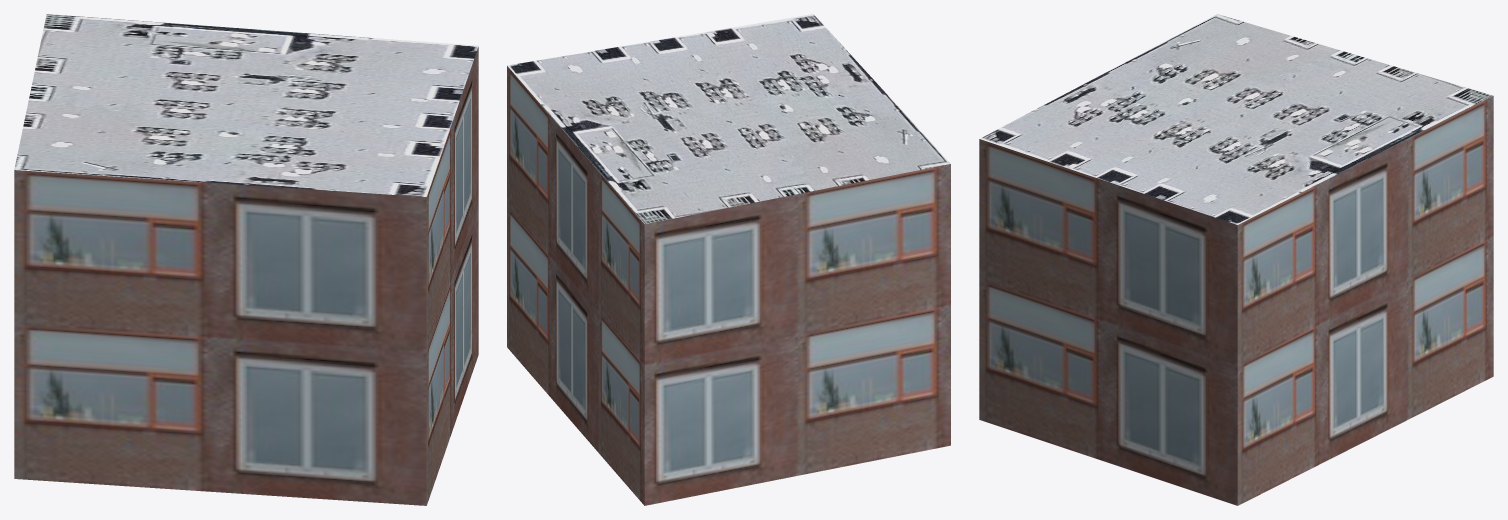
Rendered from ResTex__4606.fbx.
3 renders of one model, left to right at view 1: azimuth 30°, elevation 25°; view 2: azimuth 150°, elevation 25°; view 3: azimuth 270°, elevation 25°, orthographic. The views are drawn at different scales.
Parts seen in each view (by area): view 1: CityEngineMaterial_19_m, CityEngineMaterial_15_m; view 2: CityEngineMaterial_19_m, CityEngineMaterial_15_m; view 3: CityEngineMaterial_19_m, CityEngineMaterial_15_m.
Boxes of the visible parts, x1=… form: CityEngineMaterial_19_m: x1=14, y1=47, x2=478, y2=505; CityEngineMaterial_15_m: x1=14, y1=14, x2=478, y2=196; CityEngineMaterial_19_m: x1=507, y1=66, x2=950, y2=505; CityEngineMaterial_15_m: x1=507, y1=14, x2=950, y2=224; CityEngineMaterial_19_m: x1=979, y1=96, x2=1493, y2=505; CityEngineMaterial_15_m: x1=980, y1=14, x2=1492, y2=224.
Size of the model in its own units: 9.67 by 6 by 9.95.
Materials: 2 (2 with a texture image).
